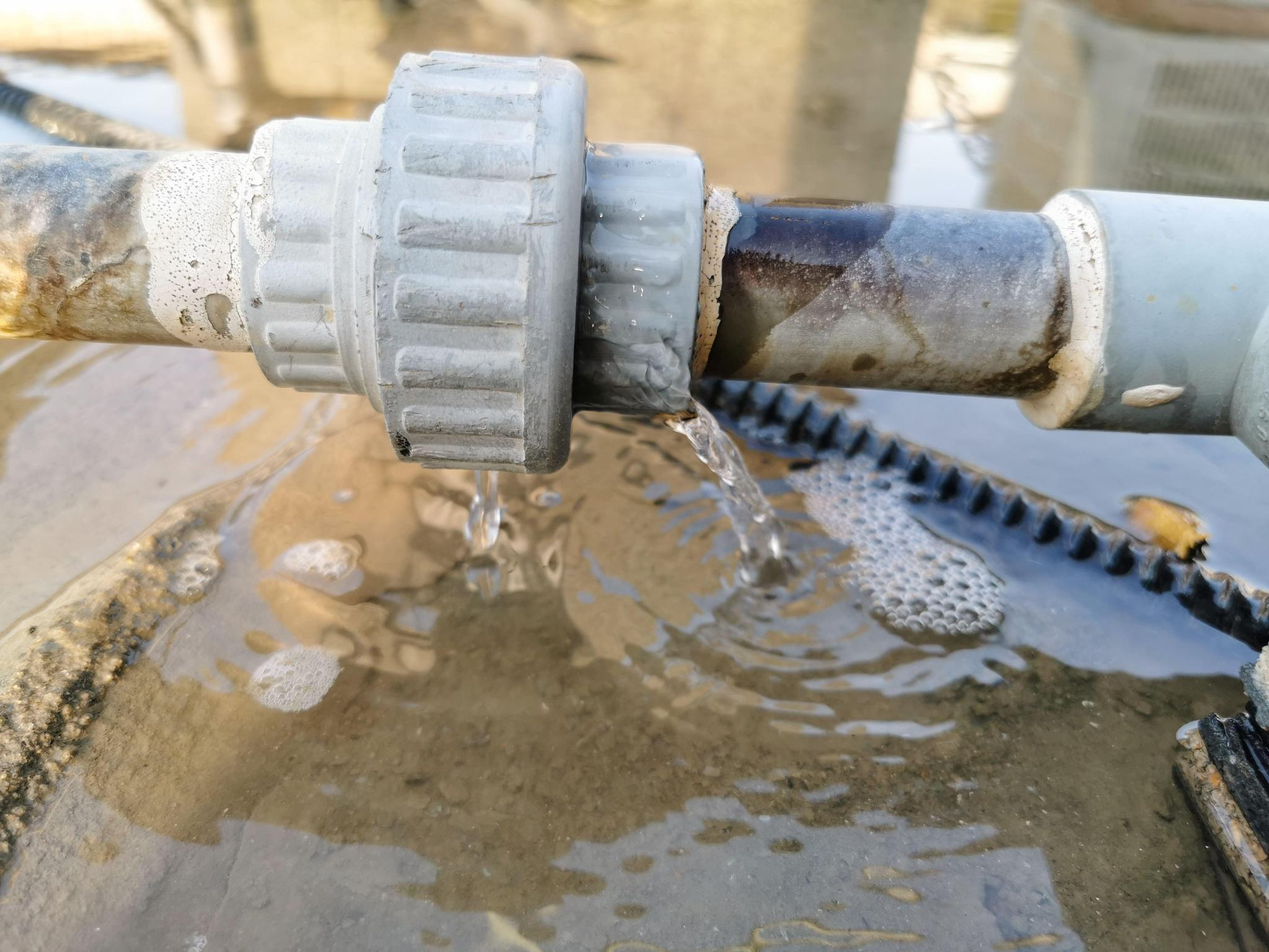water accumulation: (0, 0, 1269, 952)
water drop: (461, 459, 500, 547)
